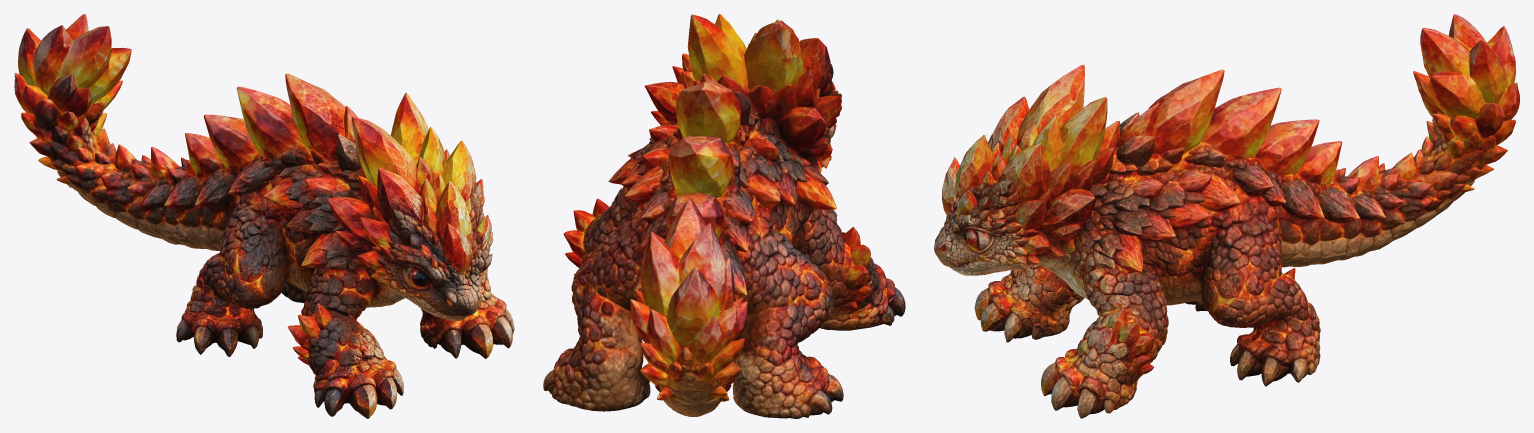
Rendered from magmord.glb.
3 views of the same model, side by side, from view 1: azimuth 30°, elevation 25°; view 2: azimuth 150°, elevation 25°; view 3: azimuth 270°, elevation 25° (orthographic). The views are drawn at different scales.
Parts seen in each view (by area): view 1: plush; view 2: plush; view 3: plush.
Boxes of the visible parts, <box> form: plush: <box>14,14,514,418</box>; plush: <box>543,14,905,418</box>; plush: <box>934,14,1519,418</box>.
Size of the model in its own units: 0.6371 by 0.5055 by 0.9797.
Materials: 1 (1 with a texture image).
